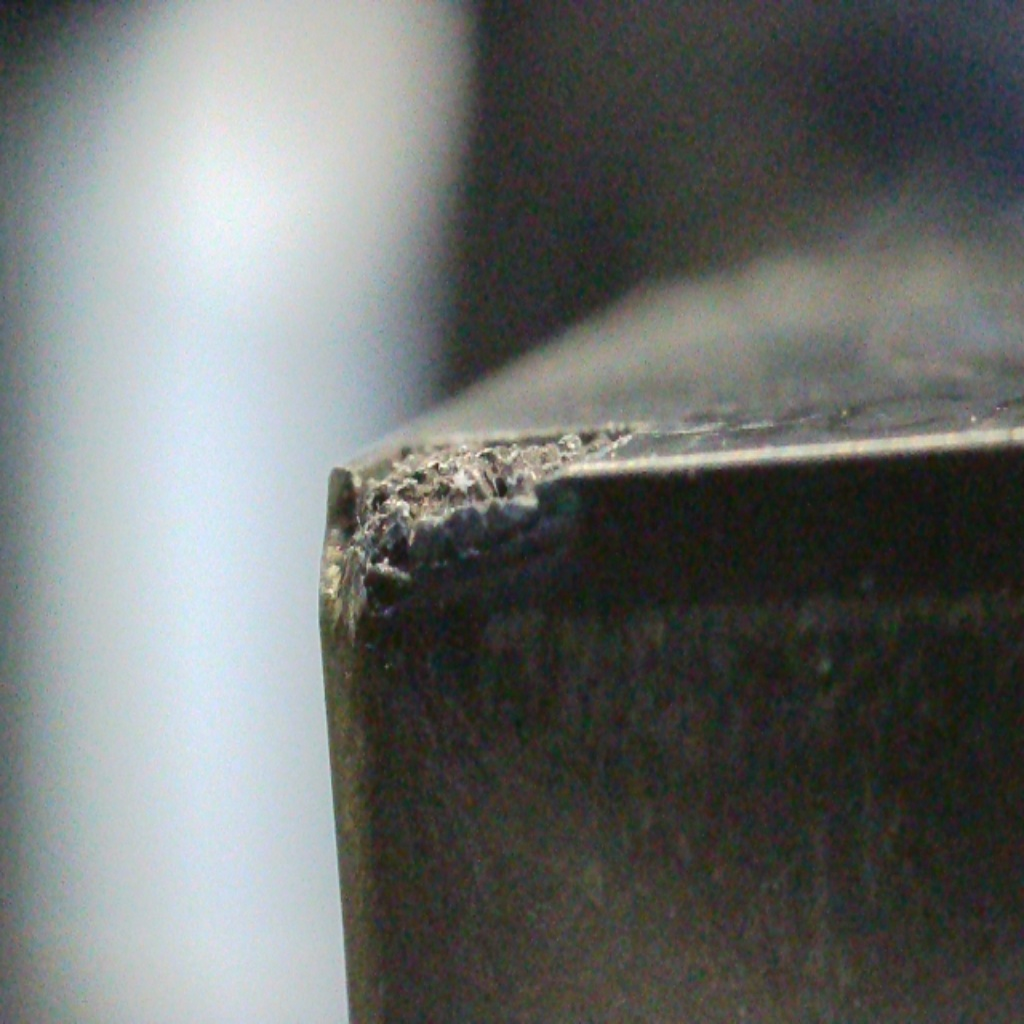flank_wear: (321, 498, 444, 644)
